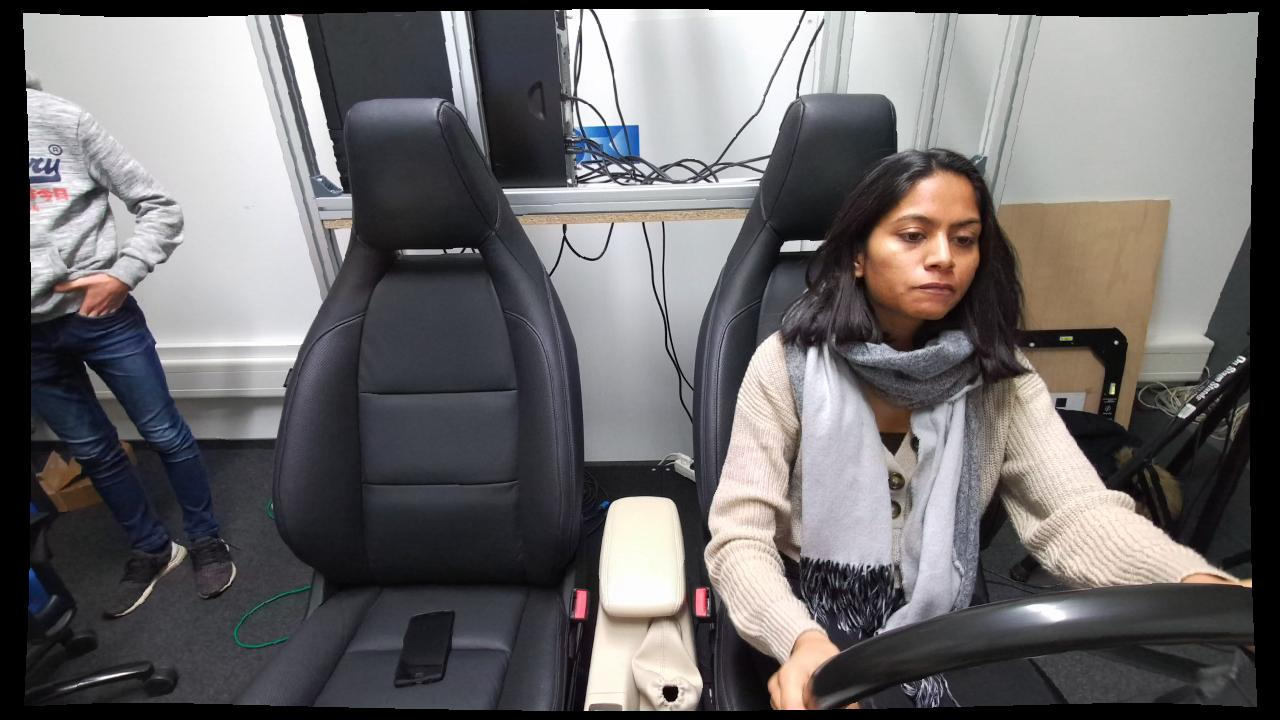SafeDriving: (702, 135, 1058, 685)
